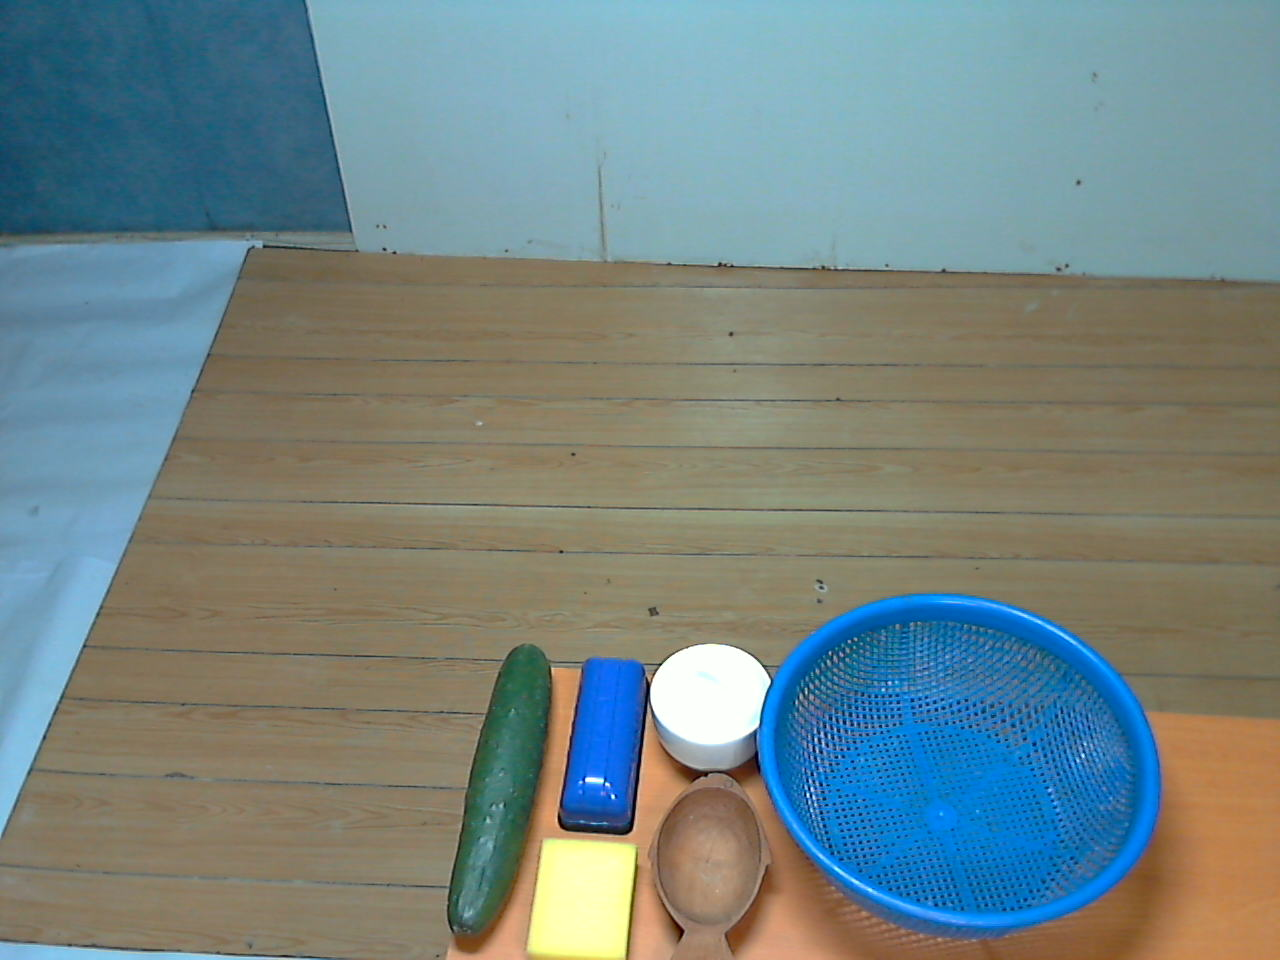azucarero: (645, 631, 785, 785)
borrador: (546, 647, 660, 844)
colador: (745, 582, 1180, 948)
esponja: (519, 825, 646, 960)
pepino: (441, 635, 560, 960)
pescado: (635, 760, 781, 960)
